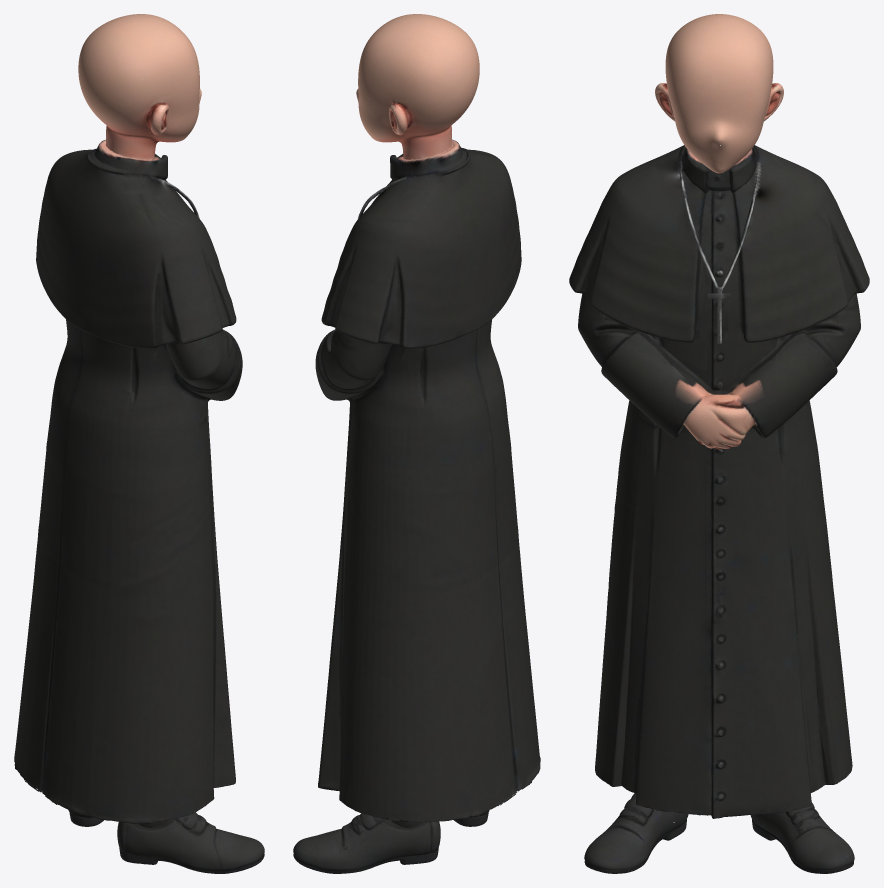
Rendered from priest+3d+model.glb.
3 views of the same model, side by side, from view 1: azimuth 30°, elevation 25°; view 2: azimuth 150°, elevation 25°; view 3: azimuth 270°, elevation 25° (orthographic).
Parts seen in each view (by area): view 1: tripo_node_3fb5d5a4-ed28-47ab-a788-361b52567a7b; view 2: tripo_node_3fb5d5a4-ed28-47ab-a788-361b52567a7b; view 3: tripo_node_3fb5d5a4-ed28-47ab-a788-361b52567a7b.
Part boxes in pixels (x1,y1,x2,y2): tripo_node_3fb5d5a4-ed28-47ab-a788-361b52567a7b: (14,14,264,873); tripo_node_3fb5d5a4-ed28-47ab-a788-361b52567a7b: (293,14,540,873); tripo_node_3fb5d5a4-ed28-47ab-a788-361b52567a7b: (569,14,869,873).
Bounding box in the file's own units: 0.2402 × 1 × 0.3311.
Materials: 1 (1 with a texture image).
